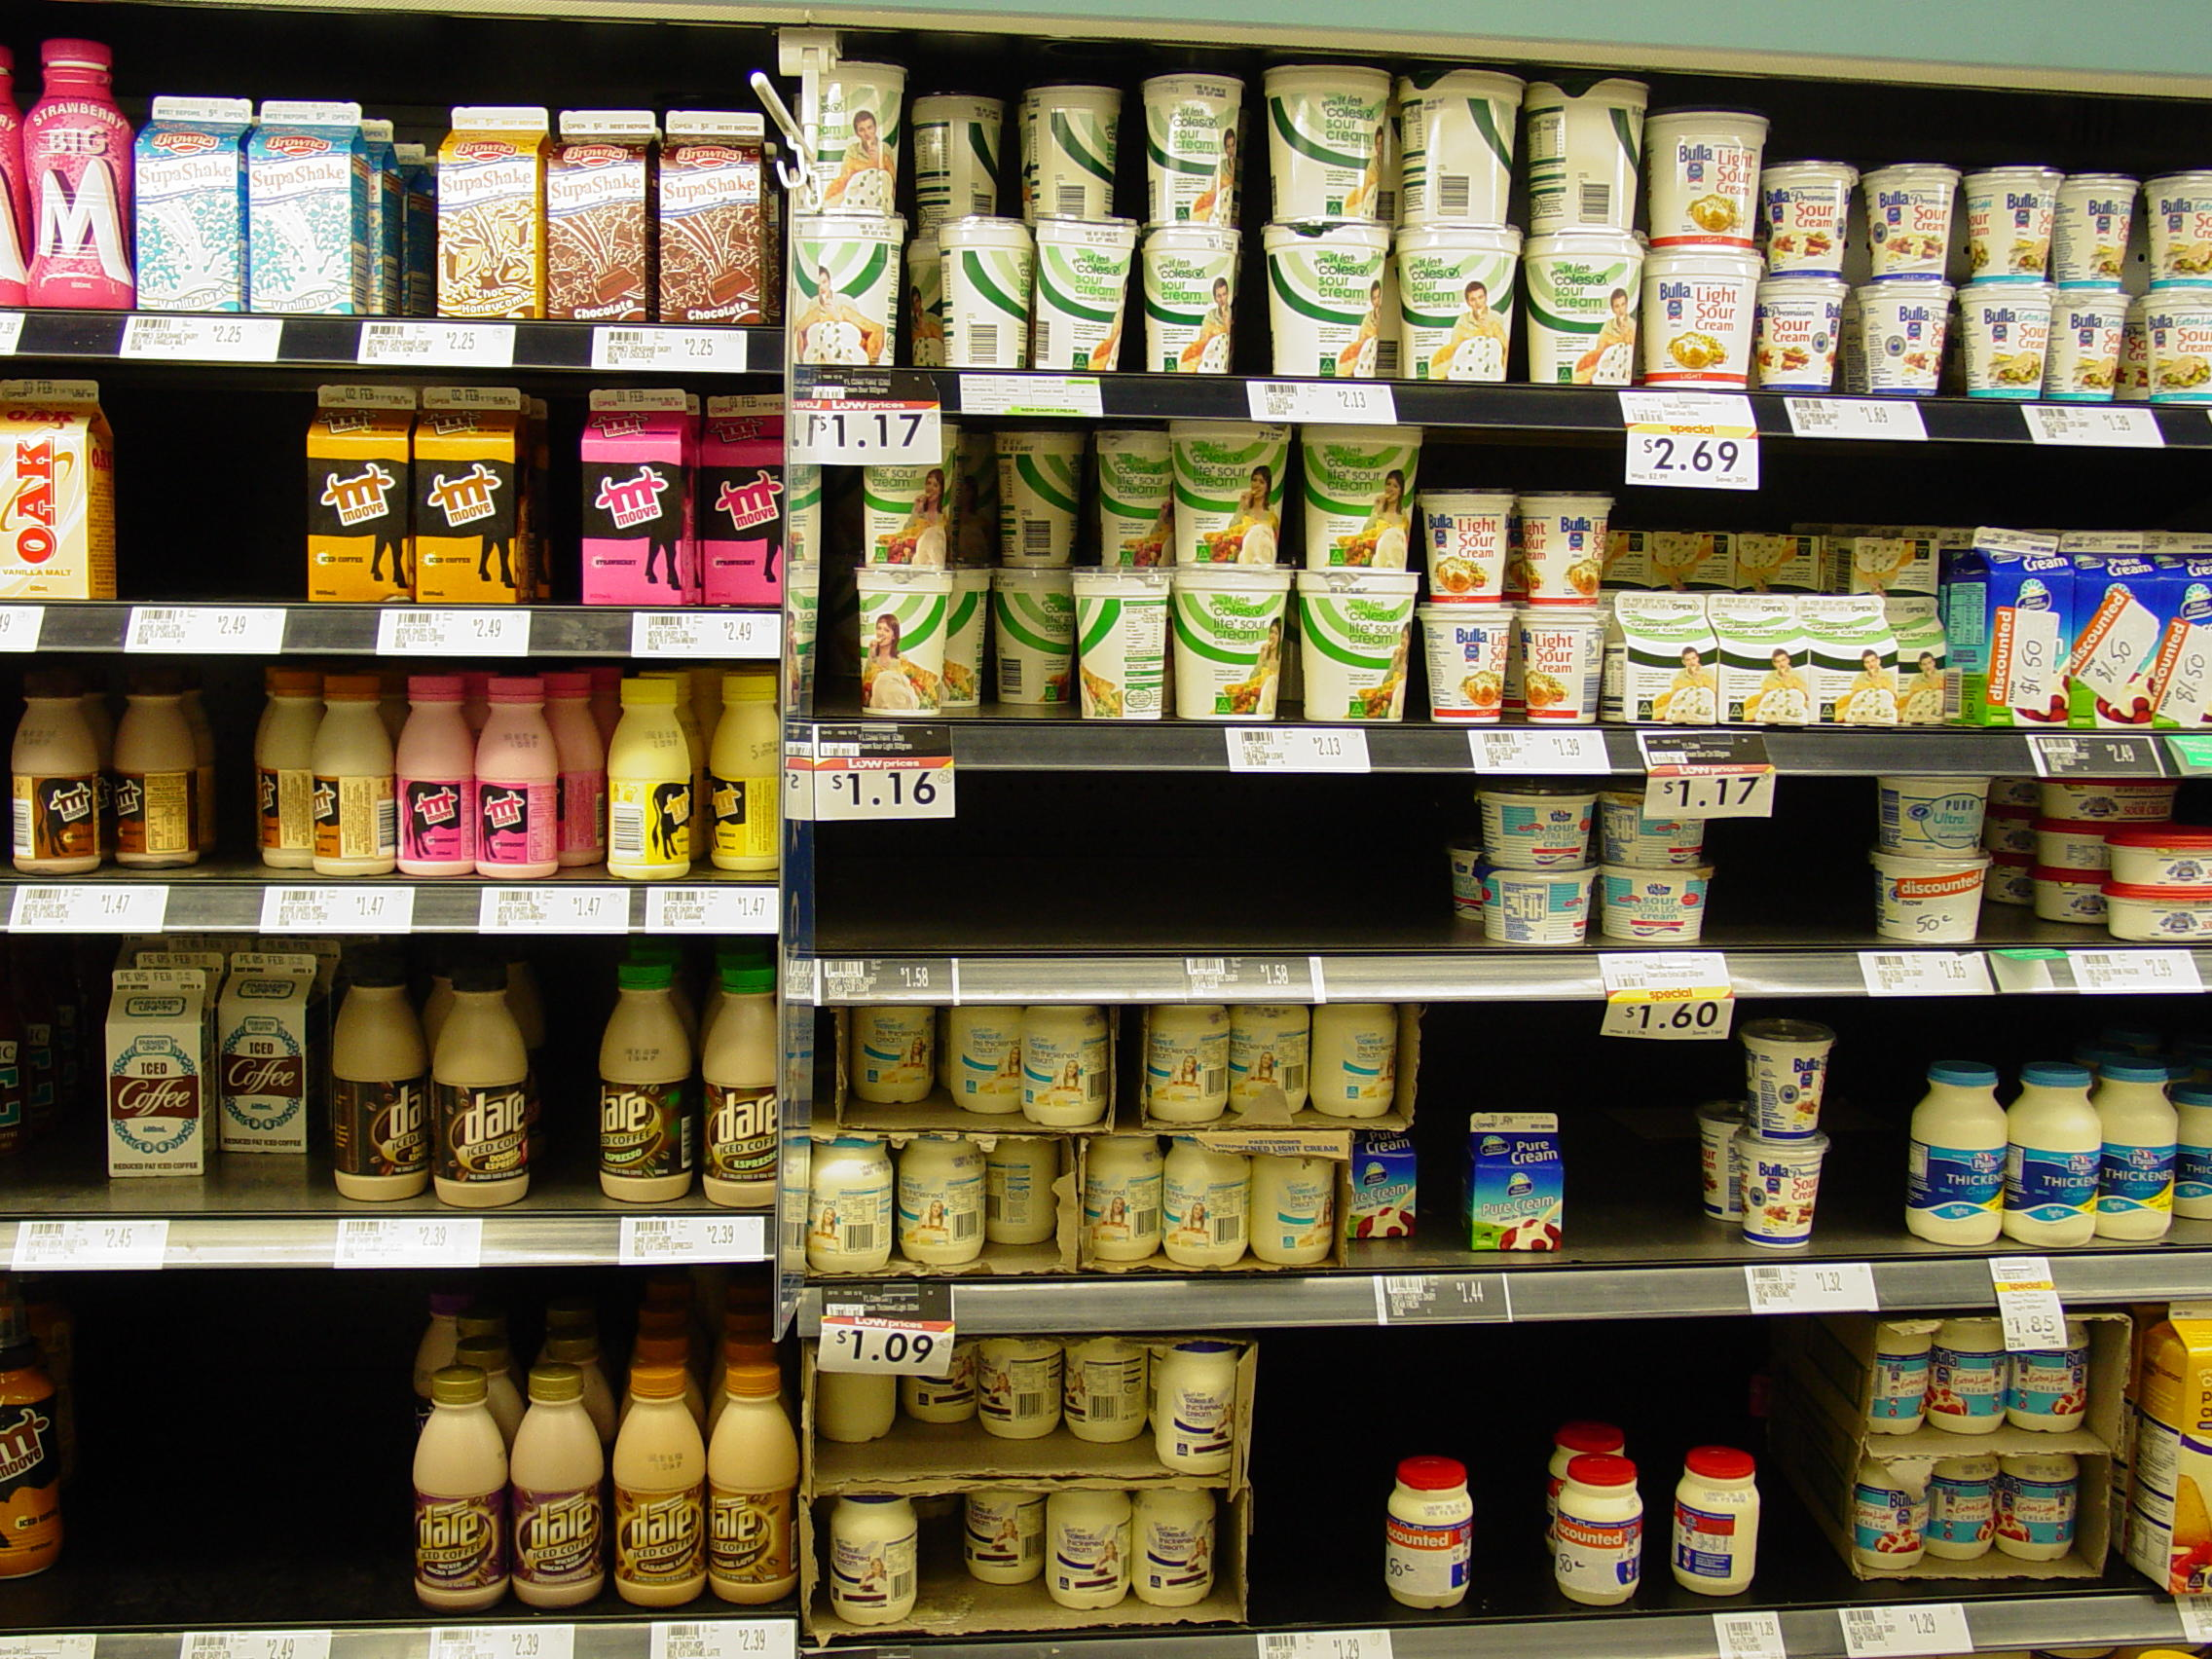Misplacement: (98, 945, 319, 1211), (963, 437, 1170, 716), (87, 685, 298, 871), (838, 1006, 1104, 1122), (1148, 997, 1400, 1115)
Out-of-stock: (80, 1284, 416, 1621), (824, 784, 1458, 962), (129, 387, 305, 601), (1275, 1347, 1386, 1628), (1719, 781, 1871, 941)
